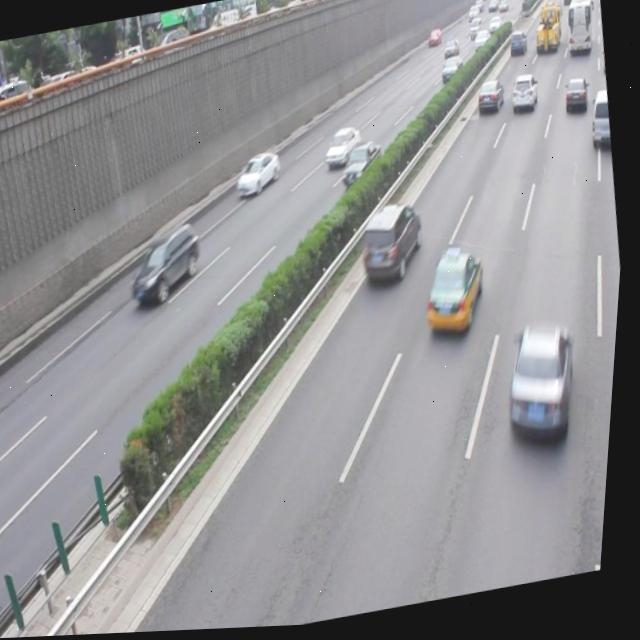car: (498, 321, 590, 452), (126, 217, 211, 311), (419, 245, 496, 343), (235, 149, 288, 203), (339, 142, 388, 192), (323, 127, 367, 172), (561, 81, 591, 120)
truck: (357, 202, 431, 289), (586, 92, 617, 158)
